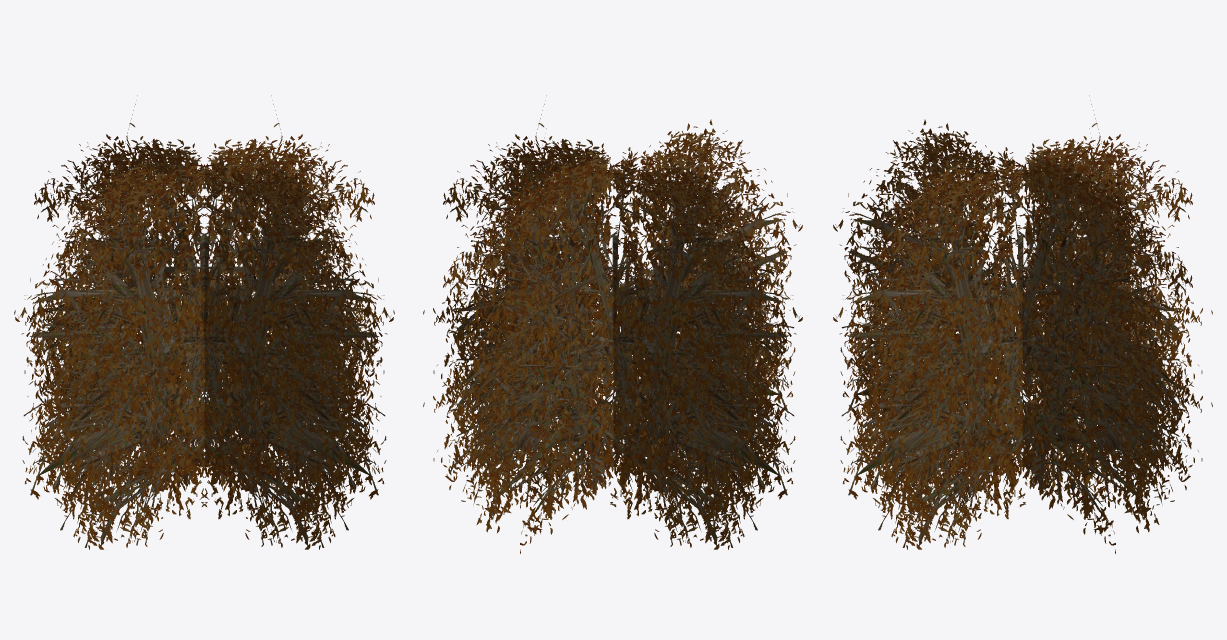
Rendered from tree_02_lod3.glb.
3 renders of one model, left to right at view 1: azimuth 30°, elevation 25°; view 2: azimuth 150°, elevation 25°; view 3: azimuth 270°, elevation 25°, orthographic.
Visible parts, largest first — view 1: Tree_02_LOD3; view 2: Tree_02_LOD3; view 3: Tree_02_LOD3.
Boxes of the visible parts, left/top/right/bottom form: Tree_02_LOD3: left=14, top=95, right=394, bottom=549; Tree_02_LOD3: left=423, top=95, right=802, bottom=553; Tree_02_LOD3: left=833, top=95, right=1212, bottom=553.
Bounding box in the file's own units: 8.68 × 9.3 × 7.52.
Materials: 1 (1 with a texture image).
